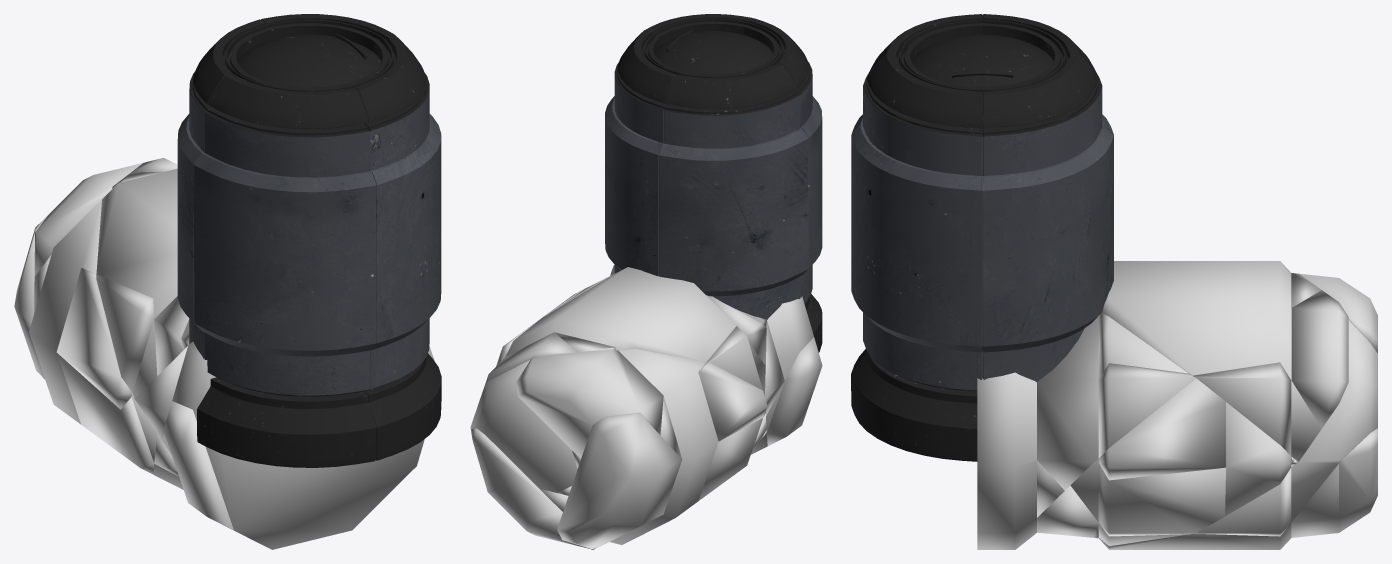
File: SM_Baril_02.fbx
The picture shows the model from 3 angles, left to right: view 1: azimuth 30°, elevation 25°; view 2: azimuth 150°, elevation 25°; view 3: azimuth 270°, elevation 25°; orthographic projection. The views are drawn at different scales.
Parts seen in each view (by area): view 1: SM_Baril_02, SM_Baril_02_ConvexHulls; view 2: SM_Baril_02_ConvexHulls, SM_Baril_02; view 3: SM_Baril_02_ConvexHulls, SM_Baril_02.
Boxes of the visible parts, left/top/right/bottom form: SM_Baril_02: left=177, top=14, right=441, bottom=467; SM_Baril_02_ConvexHulls: left=14, top=158, right=434, bottom=549; SM_Baril_02_ConvexHulls: left=470, top=265, right=822, bottom=549; SM_Baril_02: left=605, top=14, right=822, bottom=352; SM_Baril_02_ConvexHulls: left=977, top=261, right=1377, bottom=549; SM_Baril_02: left=851, top=14, right=1113, bottom=461.
Bounding box in the file's own units: 0.9851 × 1.78 × 1.76.
